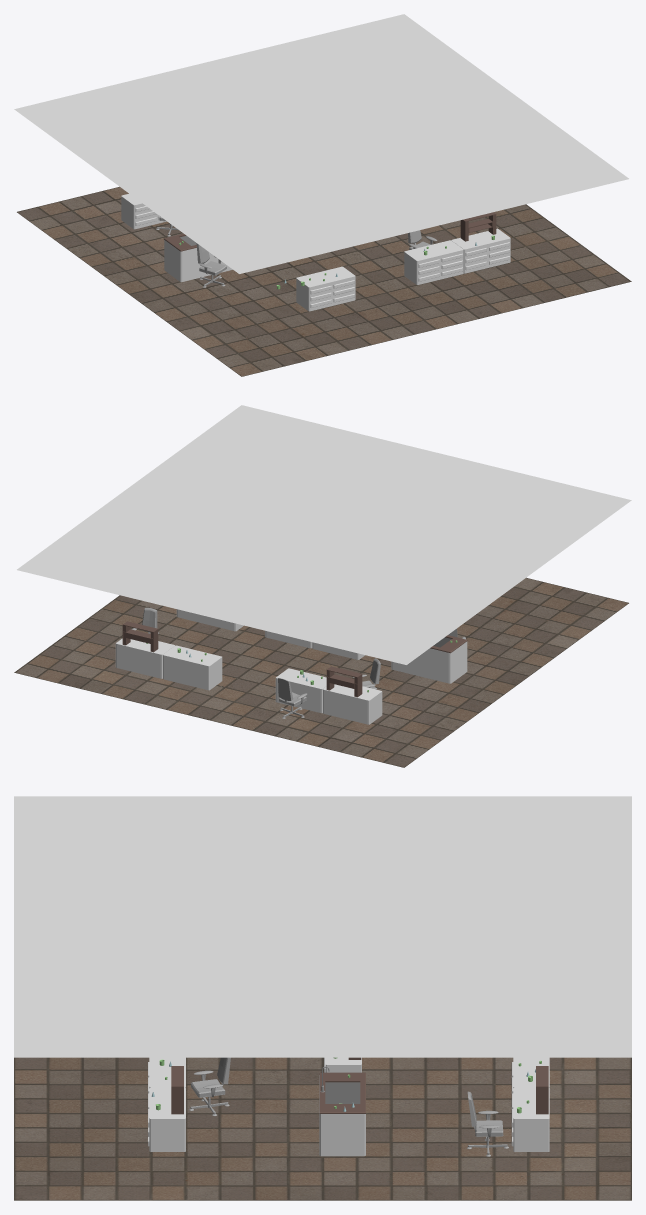
The picture shows the model from 3 angles, top to bottom: view 1: azimuth 30°, elevation 25°; view 2: azimuth 150°, elevation 25°; view 3: azimuth 270°, elevation 25°; orthographic projection. The views are drawn at different scales.
Parts seen in each view (by area): view 1: Techo1, Suelo1, Cube.015, Cube.017, Cube.016, NurbsPath.005, Cube.007, Cube.036, Cylinder.008; view 2: Techo1, Suelo1, NurbsPath.005, Cube.009, Cube.007, Cube.010, Cube.008, Cube.035, Cube.034, Cylinder.003, NurbsPath.004; view 3: Techo1, Suelo1, NurbsPath.004, Cube.010, Cube.016, Cylinder.007, Cylinder.002, Cube.009, Cube.015, Cube.036, Cube.035, Cube.011.
Boxes of the visible parts, x1,y1,x2,y2 form: Techo1: [14, 14, 628, 273]; Suelo1: [17, 186, 631, 376]; Cube.015: [404, 240, 463, 284]; Cube.017: [296, 266, 355, 311]; Cube.016: [451, 228, 510, 273]; NurbsPath.005: [164, 233, 232, 282]; Cube.007: [121, 193, 166, 229]; Cube.036: [460, 212, 496, 241]; Cylinder.008: [196, 243, 226, 287]; Techo1: [17, 405, 631, 664]; Suelo1: [14, 577, 628, 767]; NurbsPath.005: [391, 635, 467, 683]; Cube.009: [163, 645, 222, 690]; Cube.007: [323, 684, 382, 724]; Cube.010: [115, 638, 174, 678]; Cube.008: [275, 668, 326, 713]; Cube.035: [122, 621, 158, 652]; Cube.034: [326, 666, 362, 697]; Cylinder.003: [278, 678, 307, 718]; NurbsPath.004: [176, 609, 243, 631]; Techo1: [14, 796, 631, 1057]; Suelo1: [14, 1057, 631, 1200]; NurbsPath.004: [319, 1066, 365, 1156]; Cube.010: [511, 1087, 549, 1151]; Cube.016: [148, 1087, 185, 1151]; Cylinder.007: [189, 1057, 230, 1116]; Cylinder.002: [467, 1091, 508, 1156]; Cube.009: [511, 1057, 549, 1093]; Cube.015: [148, 1057, 185, 1093]; Cube.036: [171, 1066, 183, 1114]; Cube.035: [536, 1066, 548, 1114]; Cube.011: [324, 1057, 361, 1072].
Bounding box in the file's own units: 201 × 50.57 × 200.
